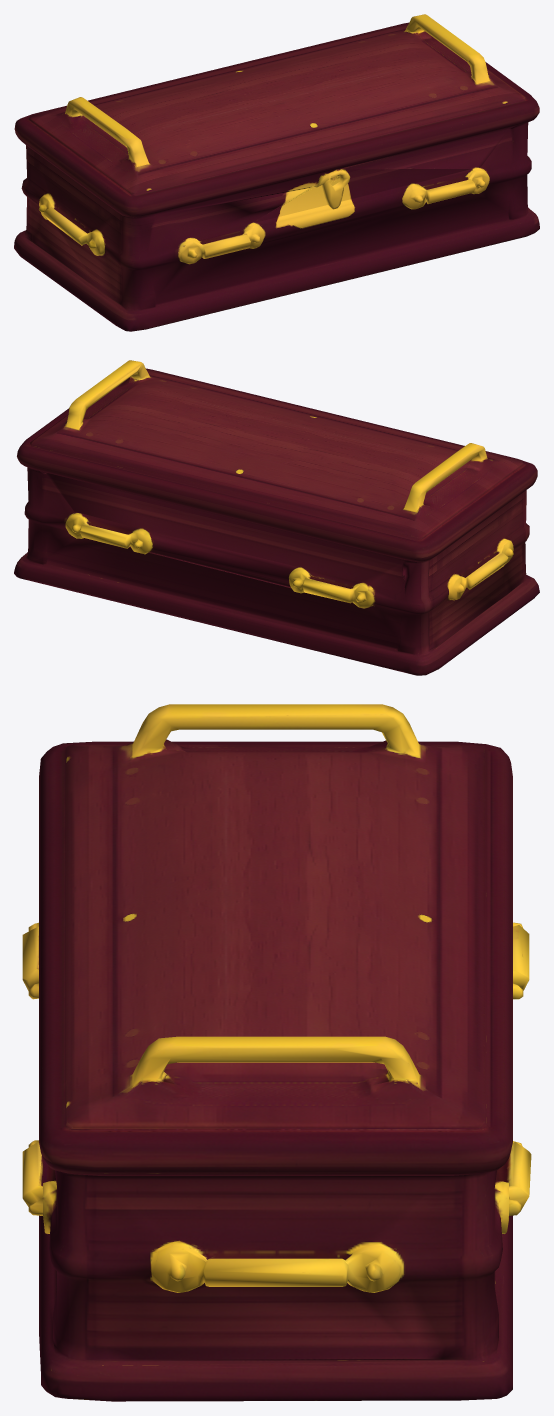
The model's file is board_carry_coffin.glb.
3 views of the same model, one above another, from view 1: azimuth 30°, elevation 25°; view 2: azimuth 150°, elevation 25°; view 3: azimuth 270°, elevation 25° (orthographic). The views are drawn at different scales.
Size of the model in its own units: 1.91 by 0.6849 by 0.9785.
1 material, 1 textured.
